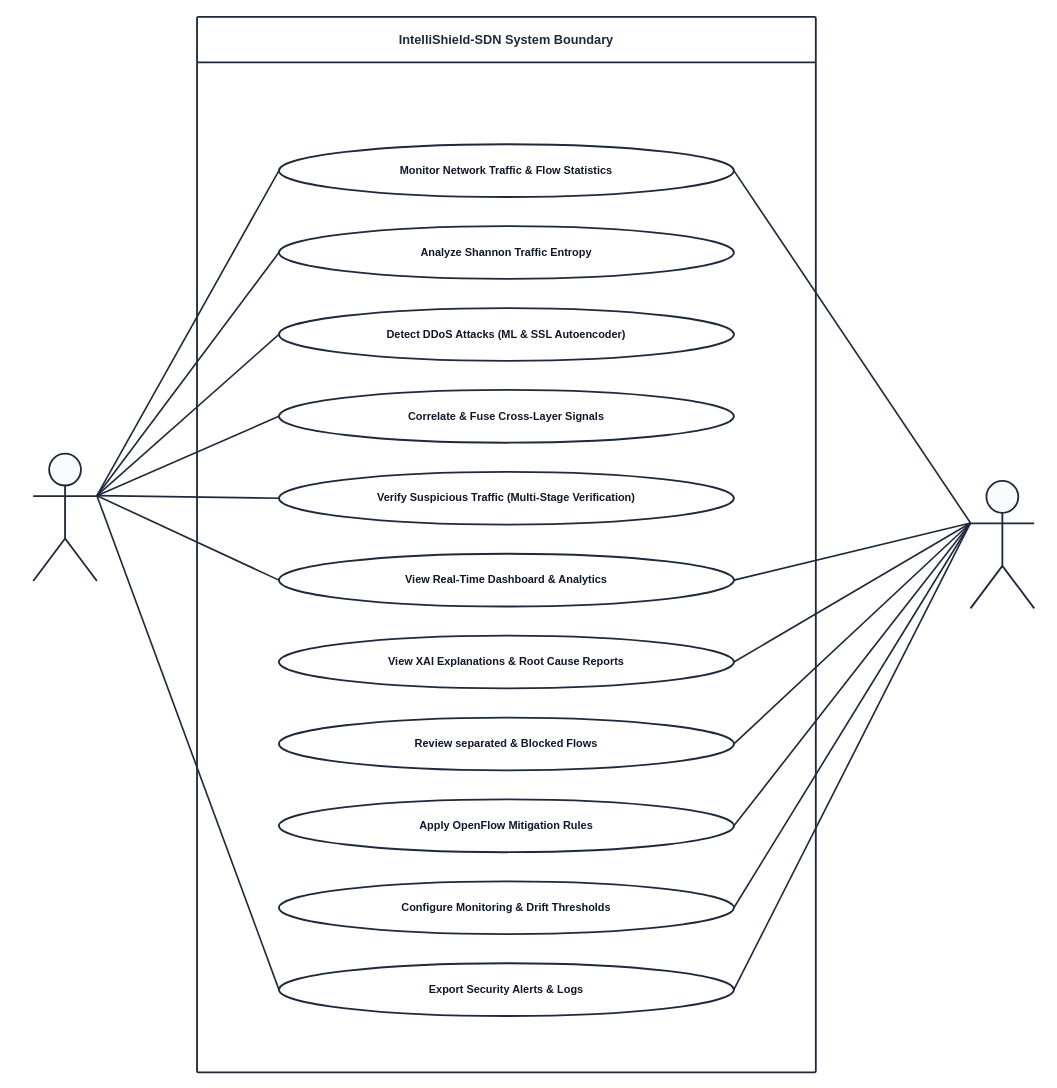
The diagram is 1057 pixels wide and 1088 high, and some of its shapes have lost their labels. The shapes that lost their labels are listed below. From the top down, each one's box as (x1, y1, x2, y2) in pixels, then its label:
(32, 452, 97, 581): Security Analyst / SOC Operator
(969, 480, 1035, 609): Network Administrator
